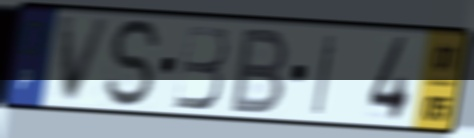4: (364, 33, 412, 124)
B: (226, 25, 293, 117), (171, 22, 231, 112)
I: (309, 31, 340, 118)
S: (103, 16, 166, 111)
V: (57, 15, 116, 107)
